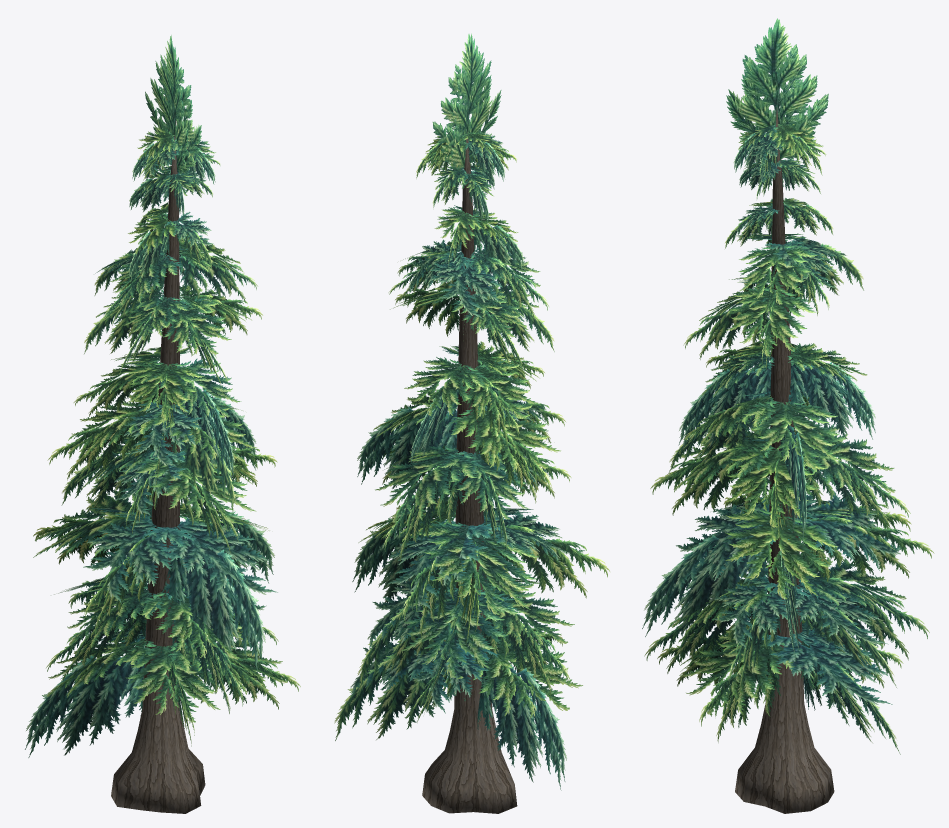
The model's file is tree_pine_tall_b.glb.
3 renders of one model, left to right at view 1: azimuth 30°, elevation 25°; view 2: azimuth 150°, elevation 25°; view 3: azimuth 270°, elevation 25°, orthographic. The views are drawn at different scales.
Visible parts, largest first — view 1: tree_pine_tall_b; view 2: tree_pine_tall_b; view 3: tree_pine_tall_b.
Part boxes in pixels (bbox=[...]): tree_pine_tall_b: bbox=[25, 35, 300, 813]; tree_pine_tall_b: bbox=[334, 33, 609, 813]; tree_pine_tall_b: bbox=[642, 18, 934, 813].
Size of the model in its own units: 12.19 by 37.81 by 13.03.
Materials: 2 (2 with a texture image).
